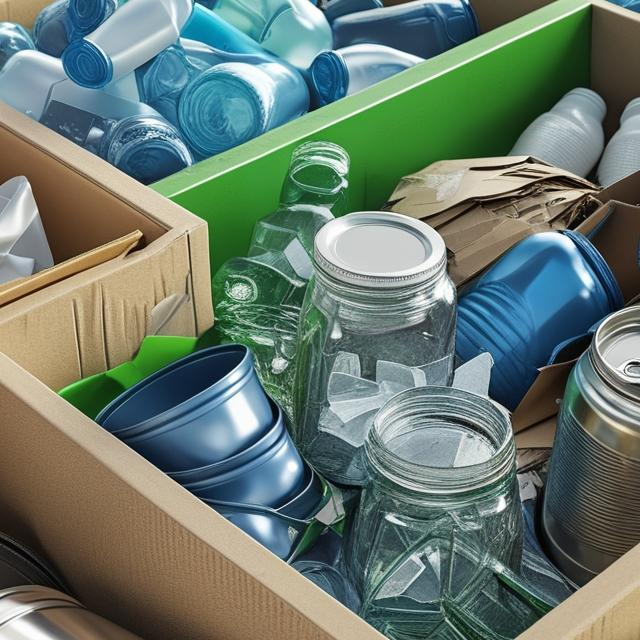metal: (555, 298, 640, 542)
